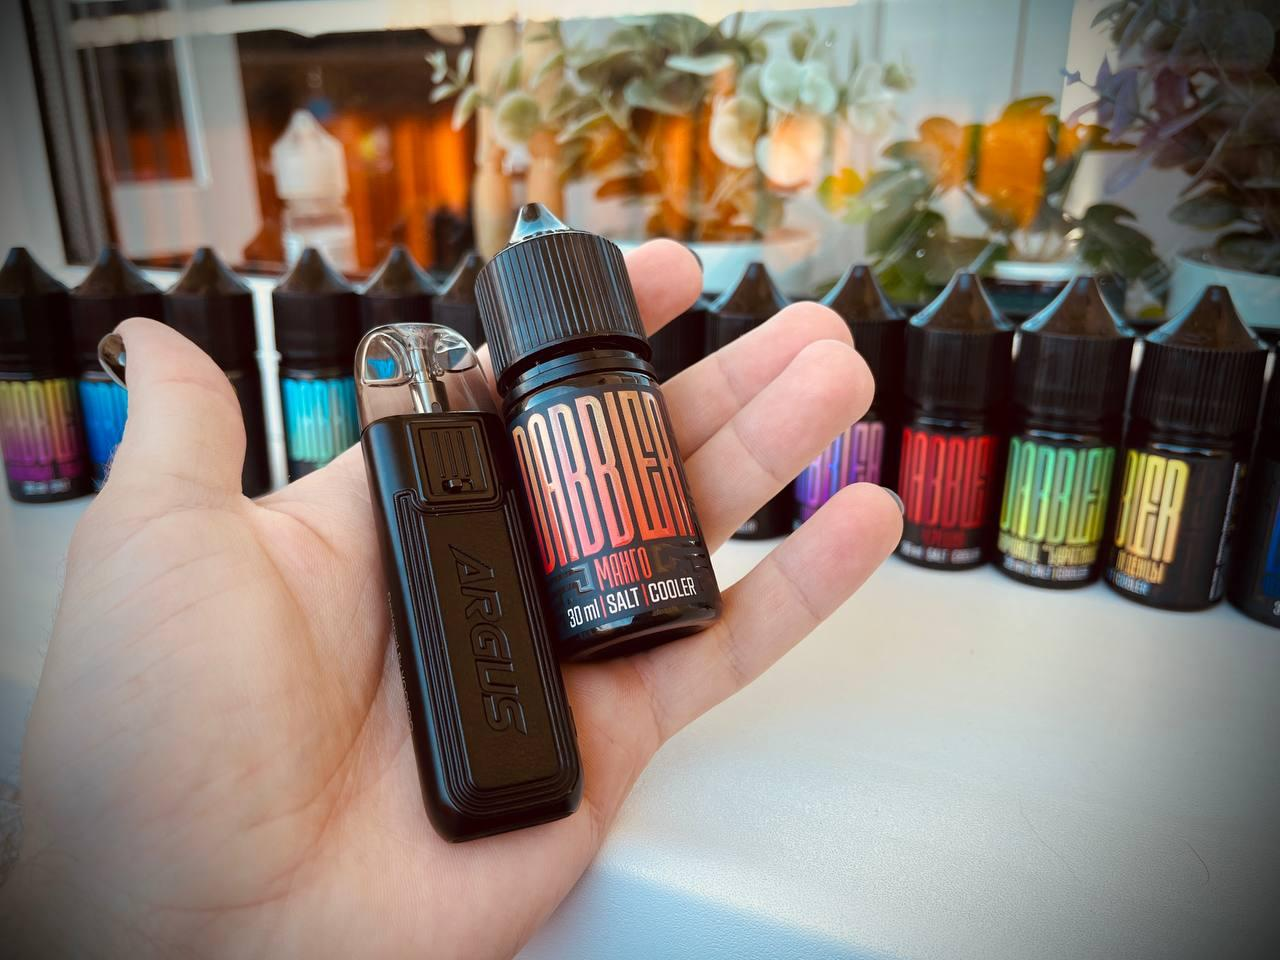Vape: (355, 322, 580, 841)
